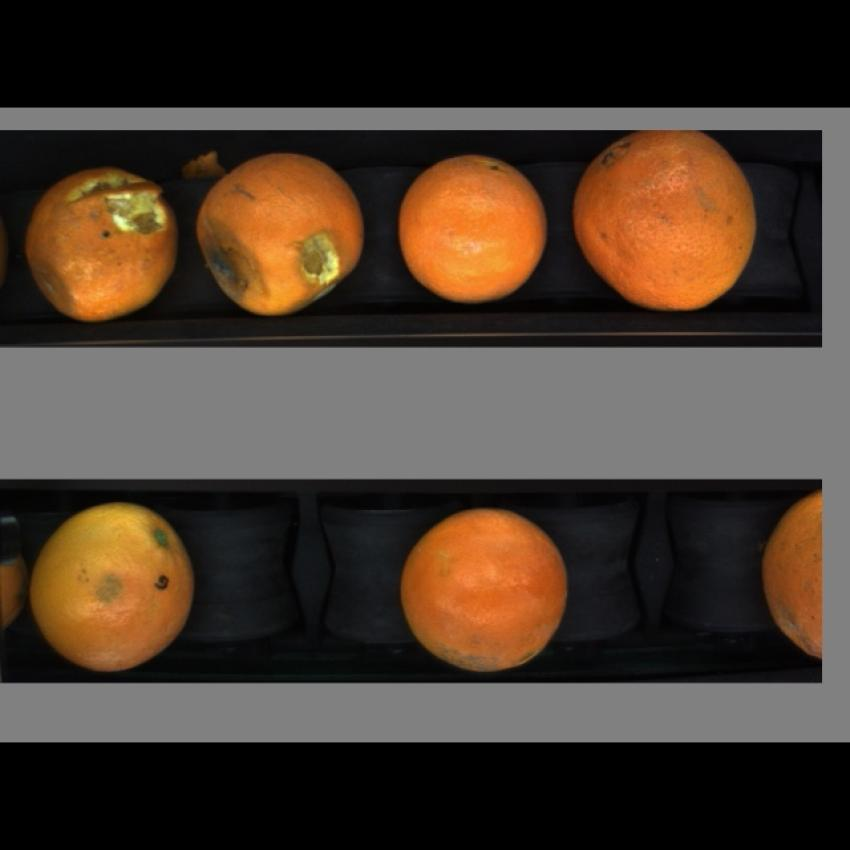Buen estado: (395, 148, 552, 304)
Mal estado: (572, 134, 760, 312), (191, 145, 367, 320), (28, 502, 200, 680), (399, 506, 568, 671), (22, 161, 182, 326), (757, 483, 823, 666)
